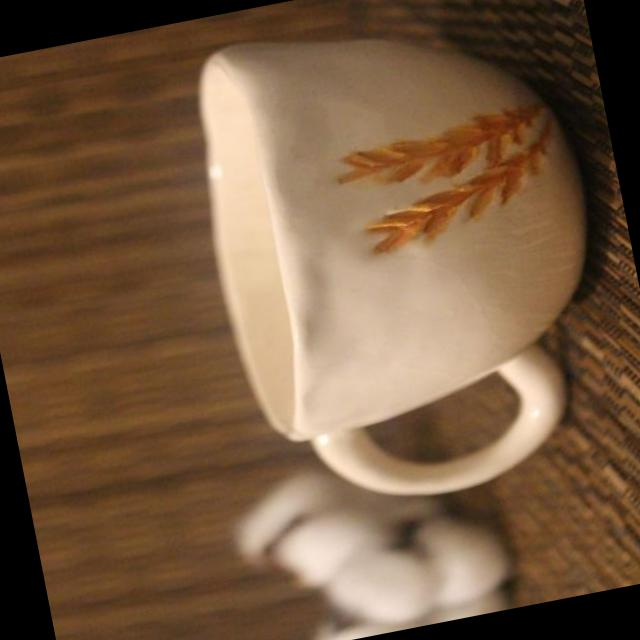Coffee Mug: (171, 0, 639, 529)
